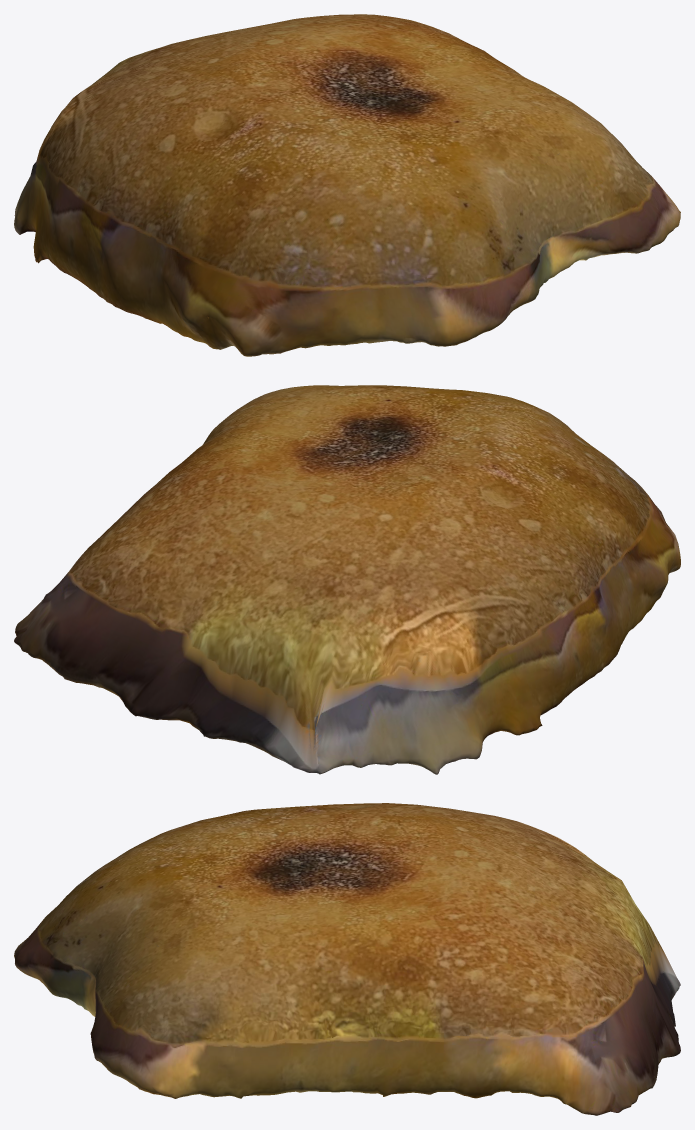
The model's file is bun-top.glb.
3 renders of one model, top to bottom at view 1: azimuth 30°, elevation 25°; view 2: azimuth 150°, elevation 25°; view 3: azimuth 270°, elevation 25°, orthographic. The views are drawn at different scales.
Visible parts, largest first — view 1: bun-top; view 2: bun-top; view 3: bun-top.
Boxes of the visible parts, x1=… form: bun-top: x1=14, y1=14, x2=680, y2=356; bun-top: x1=14, y1=385, x2=680, y2=774; bun-top: x1=14, y1=803, x2=680, y2=1115.
Size of the model in its own units: 7.74 by 2.89 by 9.39.
Materials: 1 (1 with a texture image).
